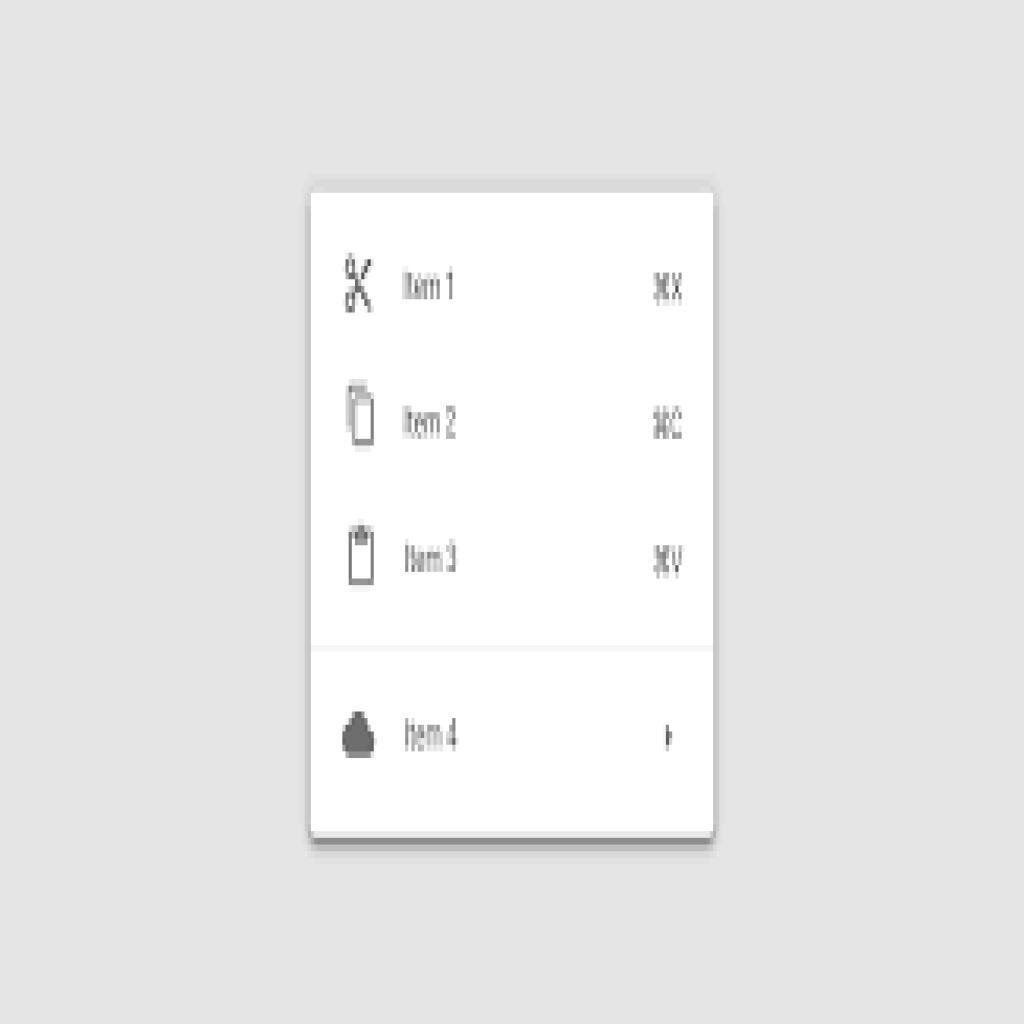icon: (335, 244, 382, 326), (340, 375, 383, 457), (341, 521, 379, 593), (337, 707, 381, 767)
